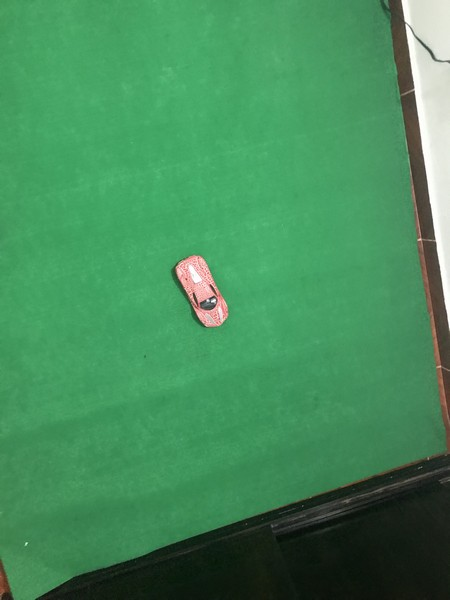RC: (171, 254, 231, 330)
